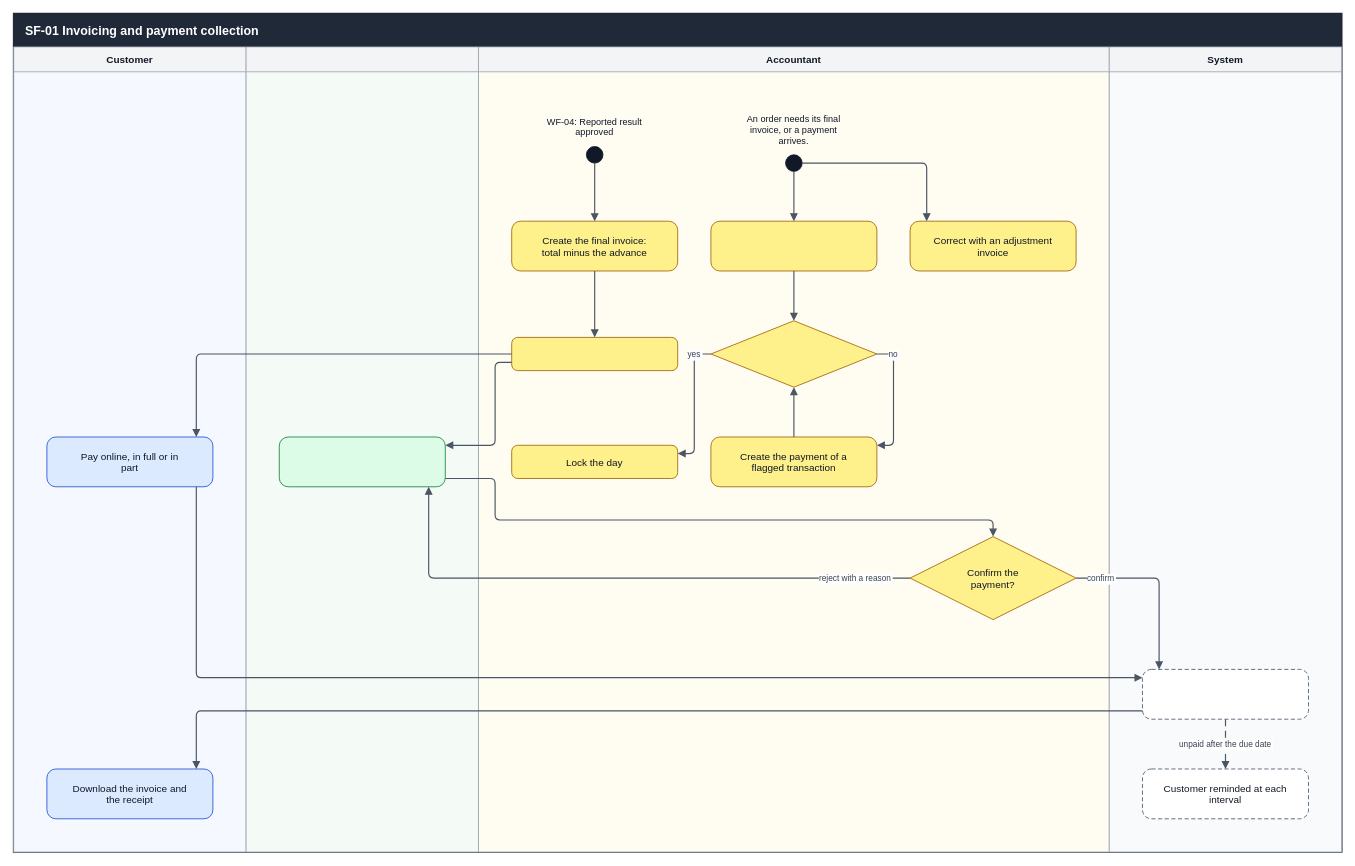
Image size: 1355x866. Some labels were removed from this diagram. The box of each missing label's shape, as (x1, y1, x2, y2) in pixels:
All matched?: (710, 320, 877, 387)
E-mail the invoice: (511, 337, 678, 371)
Receipt issued; payment status updated: (1142, 669, 1308, 719)
Reconcile the day's PayOS transactions: (710, 220, 877, 271)
Record a cash or transfer payment: (278, 436, 445, 487)
Sales: (245, 46, 478, 852)
